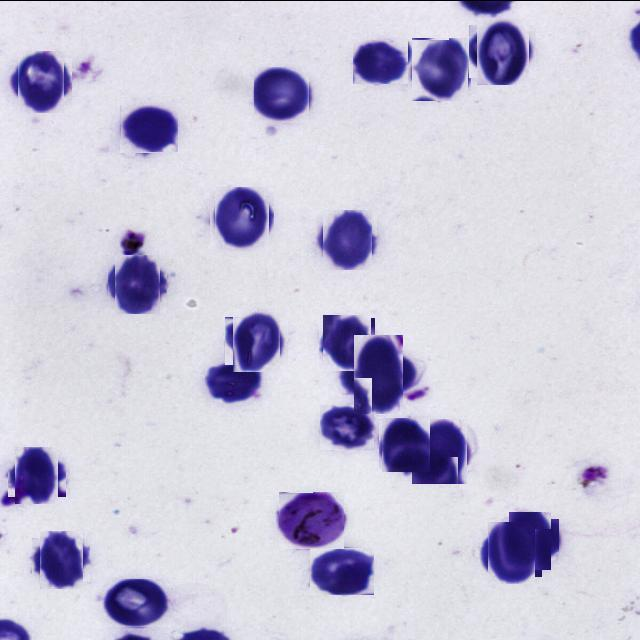difficult: (278, 491, 344, 549)
red blood cell: (346, 342, 411, 406), (409, 420, 470, 480), (410, 38, 470, 98), (472, 20, 532, 80), (212, 188, 272, 247), (228, 312, 284, 368), (106, 578, 171, 626), (254, 66, 309, 122), (484, 524, 538, 580), (310, 547, 374, 594), (14, 53, 68, 108), (320, 212, 374, 266), (120, 104, 178, 152), (112, 257, 164, 309), (321, 316, 373, 368), (380, 418, 432, 470), (504, 514, 556, 564), (36, 534, 86, 584), (12, 450, 62, 500), (353, 39, 409, 83), (320, 404, 374, 449), (205, 360, 263, 400)
